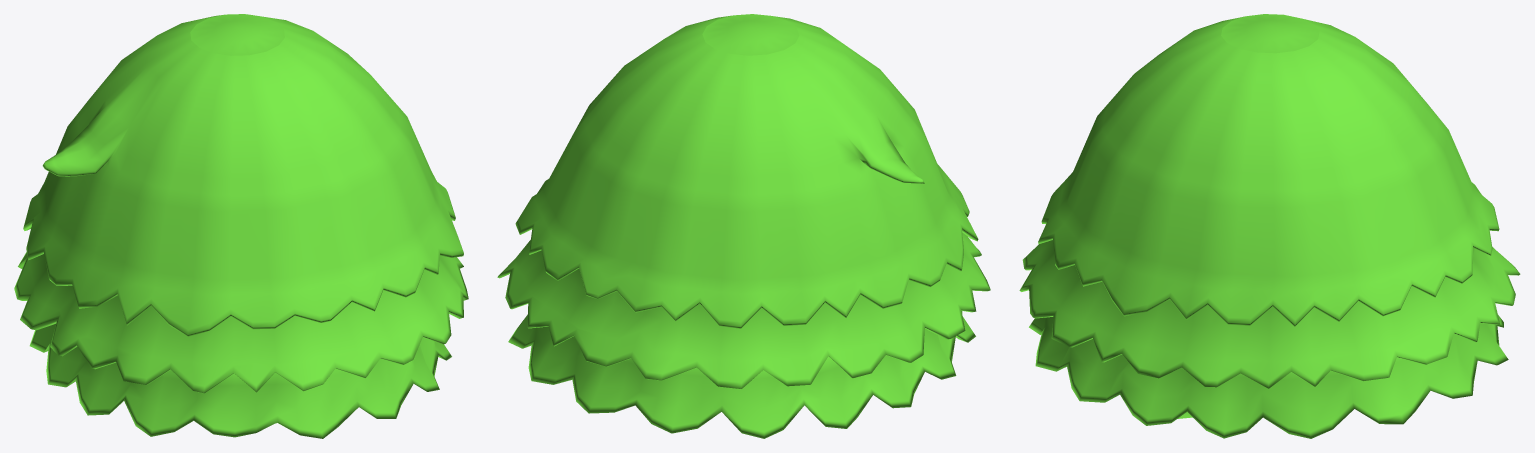
The model's file is sm_leaves5.fbx.
3 renders of one model, left to right at view 1: azimuth 30°, elevation 25°; view 2: azimuth 150°, elevation 25°; view 3: azimuth 270°, elevation 25°, orthographic.
Parts seen in each view (by area): view 1: bouquetFeuillesDetail2; view 2: bouquetFeuillesDetail2; view 3: bouquetFeuillesDetail2.
Boxes of the visible parts, <box> form: bouquetFeuillesDetail2: <box>14,14,468,438</box>; bouquetFeuillesDetail2: <box>497,14,990,438</box>; bouquetFeuillesDetail2: <box>1019,14,1520,438</box>.
Bounding box in the file's own units: 419 × 326 × 451.
